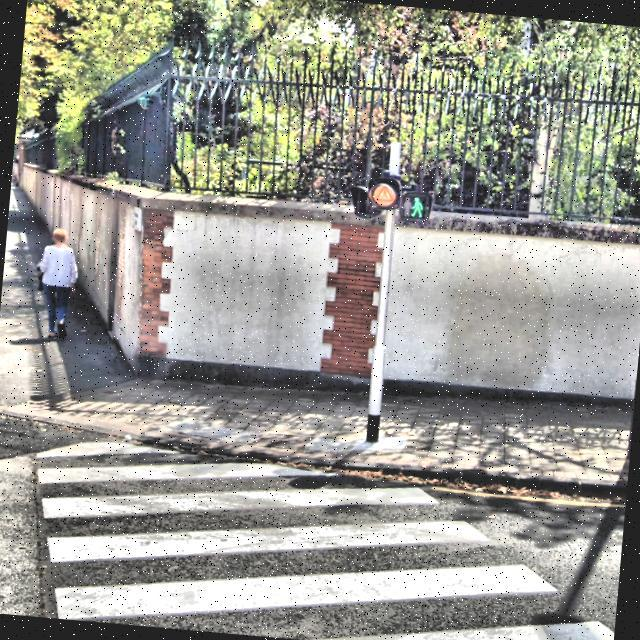green_light: (409, 194, 425, 218)
